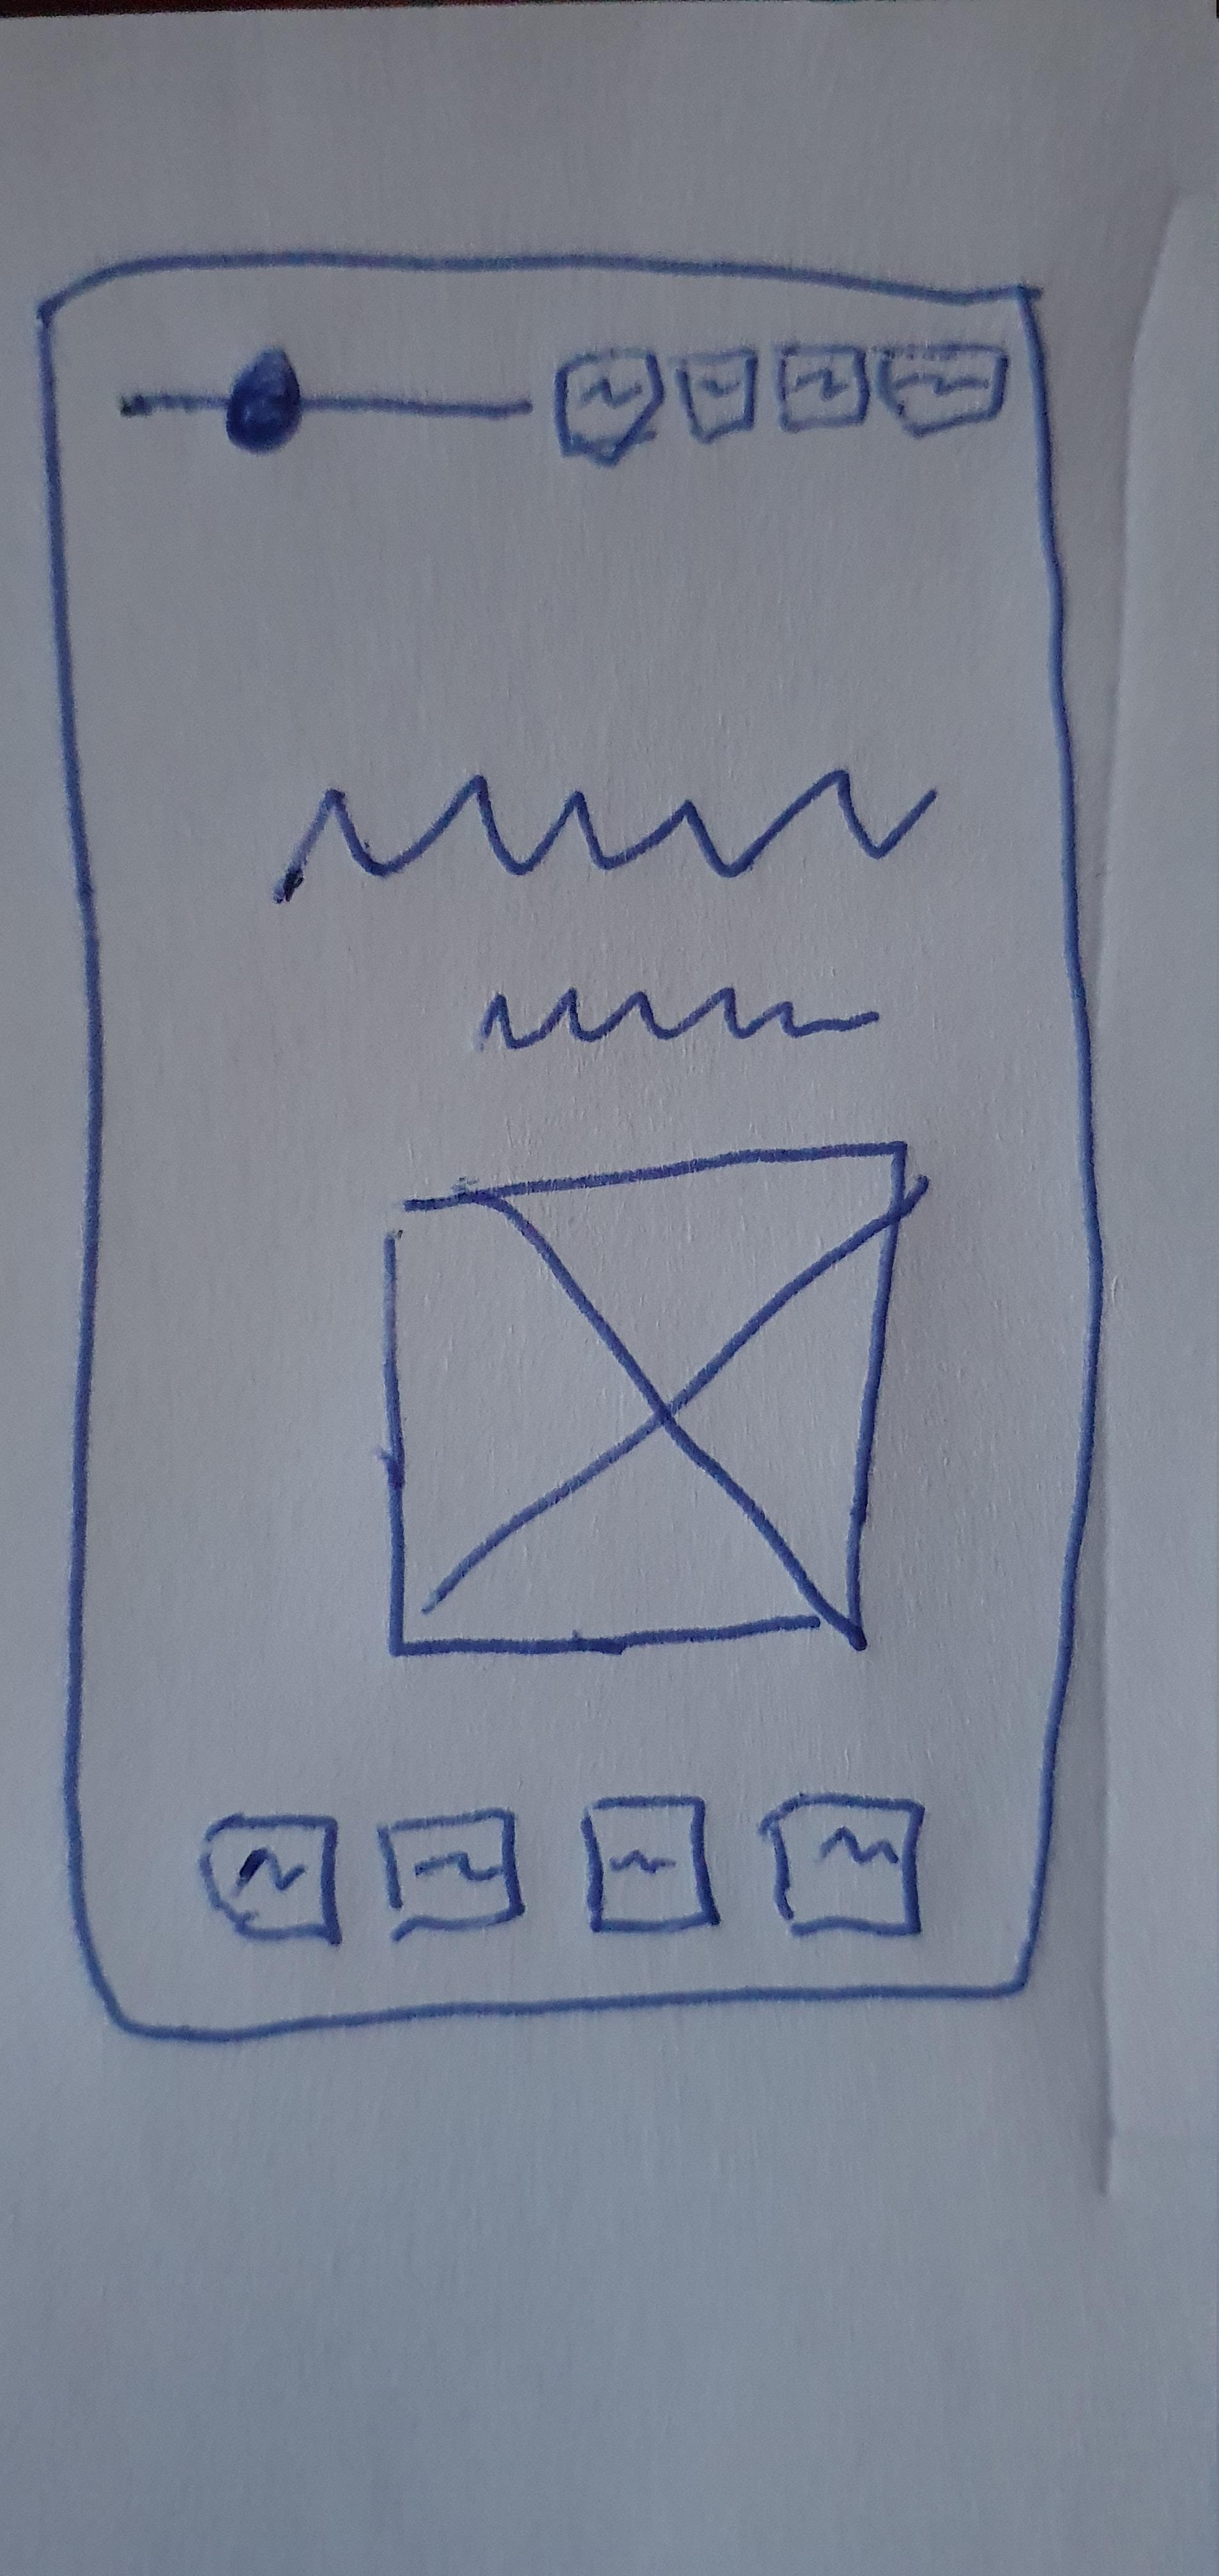Button: (764, 1794, 924, 1935), (375, 1805, 526, 1943), (581, 1791, 721, 1935), (199, 1812, 343, 1945), (555, 346, 666, 468), (880, 340, 1010, 438), (776, 342, 872, 432), (680, 346, 760, 442)
Image: (383, 1138, 910, 1656)
Label: (273, 767, 942, 905), (469, 983, 876, 1053)
Screen: (38, 256, 1106, 2045)
Slider: (125, 344, 535, 458)
